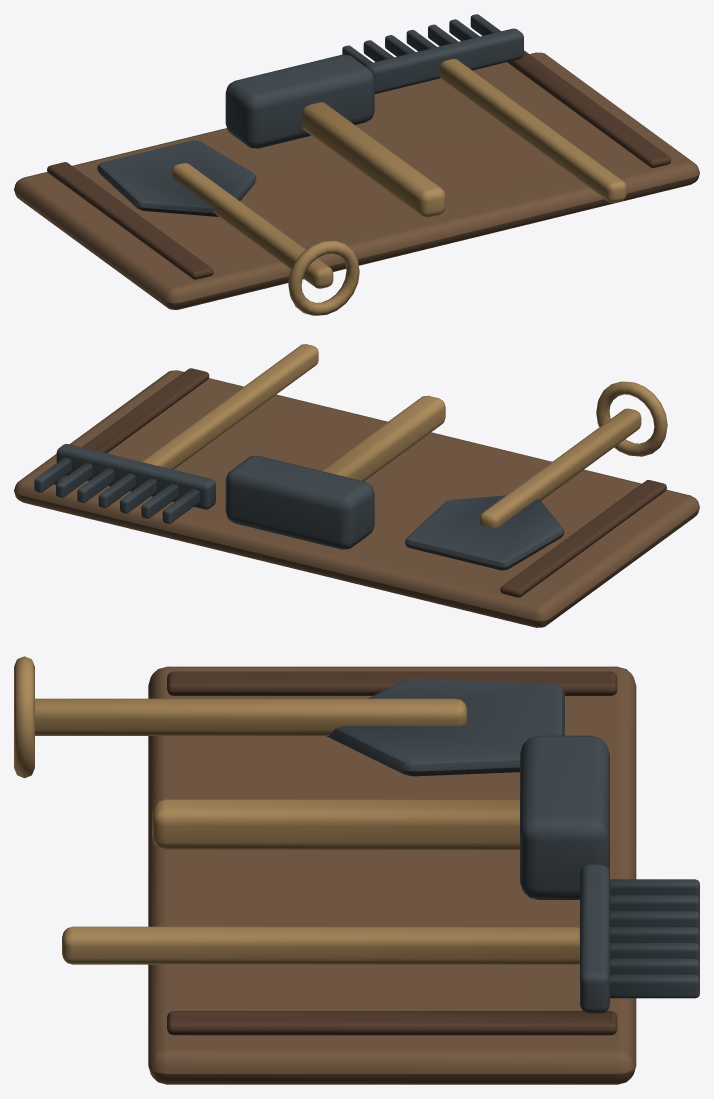
The model's file is fw_tools_garden.glb.
3 views of the same model, one above another, from view 1: azimuth 30°, elevation 25°; view 2: azimuth 150°, elevation 25°; view 3: azimuth 270°, elevation 25° (orthographic). The views are drawn at different scales.
Parts seen in each view (by area): view 1: body; view 2: body; view 3: body.
Part boxes in pixels (x1,y1,x2,y2): body: (14,14,699,315); body: (14,344,699,627); body: (14,656,699,1084).
Bounding box in the file's own units: 1.25 × 0.172 × 0.914.
